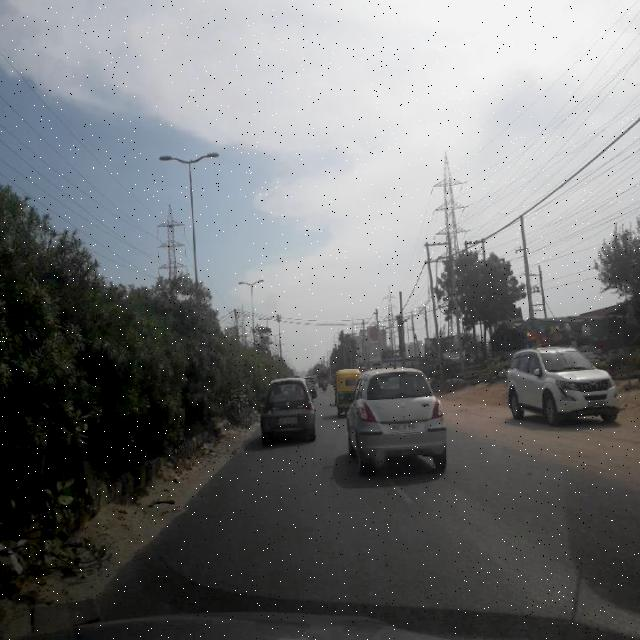D20: (164, 470, 639, 634)
